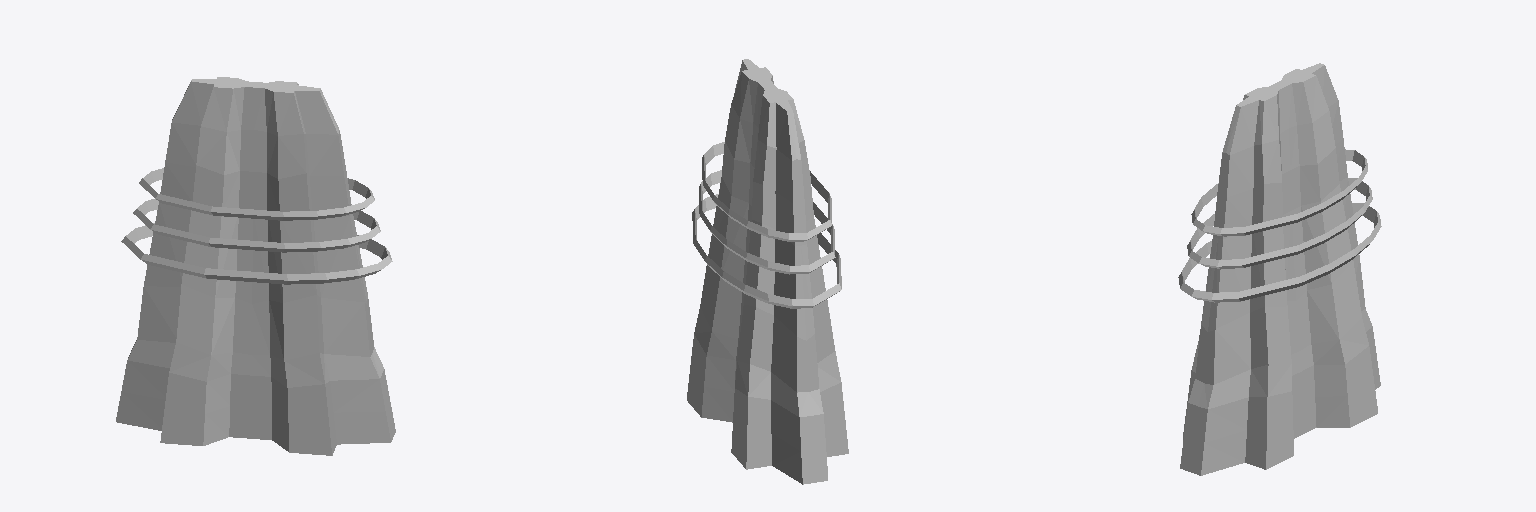
The model's file is RingTower2.obj.
The picture shows the model from 3 angles: view 1: azimuth 30°, elevation 25°; view 2: azimuth 150°, elevation 25°; view 3: azimuth 270°, elevation 25°; orthographic projection.
Visible parts, largest first — view 1: polySurface6; view 2: polySurface6; view 3: polySurface6.
Boxes of the visible parts, box(x1,y1,x2,y2) form: polySurface6: box(116, 77, 395, 455); polySurface6: box(687, 59, 848, 484); polySurface6: box(1178, 63, 1381, 475).
Size of the model in its own units: 111 by 180 by 96.94.